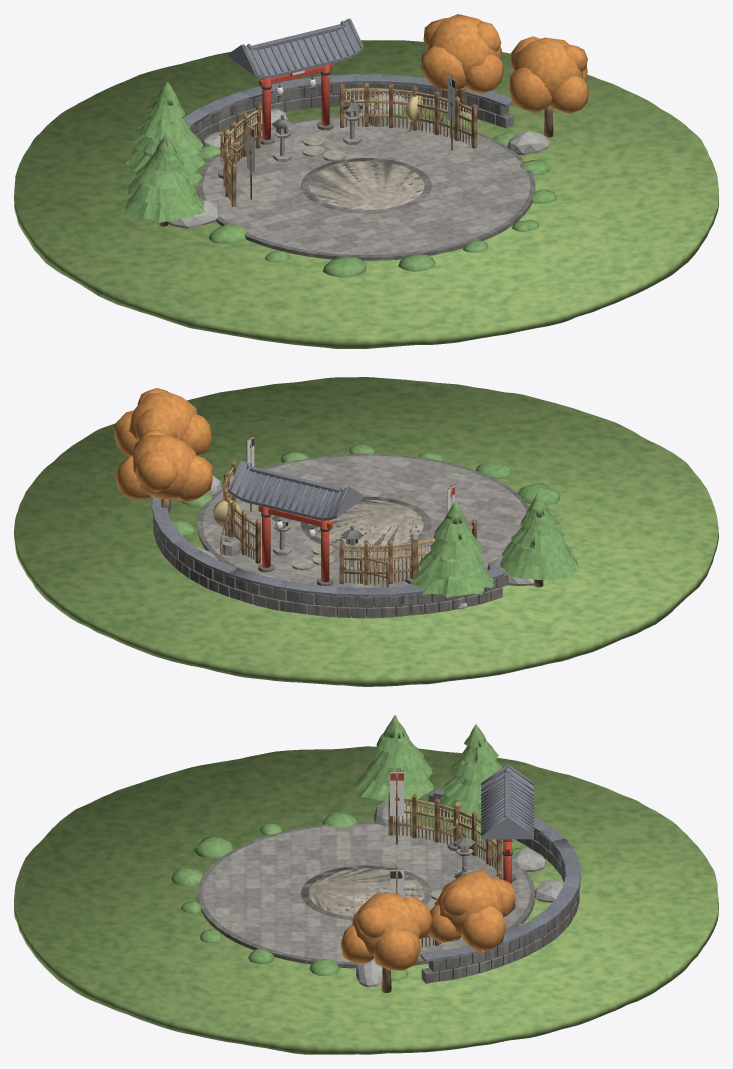
File: stage_preview_overdare.fbx
The picture shows the model from 3 angles, top to bottom: view 1: azimuth 30°, elevation 25°; view 2: azimuth 150°, elevation 25°; view 3: azimuth 270°, elevation 25°; orthographic projection.
Parts seen in each view (by area): view 1: PreparedMesh; view 2: PreparedMesh; view 3: PreparedMesh.
Part boxes in pixels (<box>): PreparedMesh: <box>14,14,718,348</box>; PreparedMesh: <box>14,377,718,686</box>; PreparedMesh: <box>14,715,718,1054</box>.
Bounding box in the file's own units: 2802 × 526 × 2797.
1 material, 1 textured.
